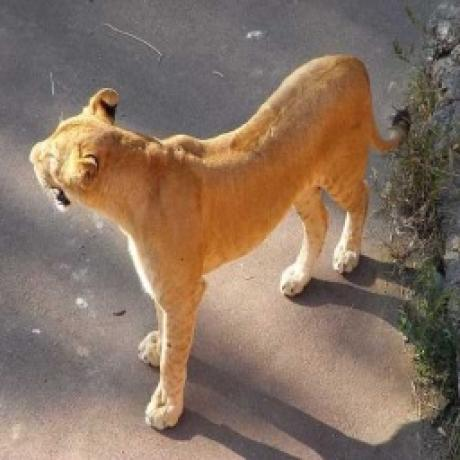Lion: (21, 30, 417, 440)
